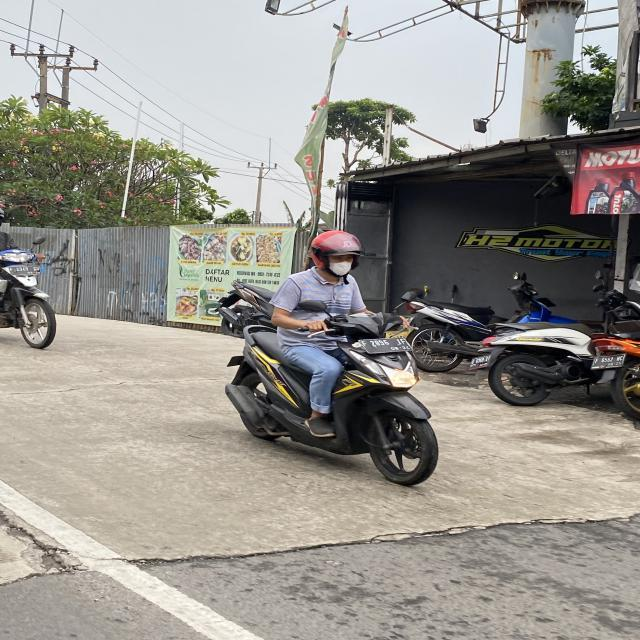Helmet: (310, 230, 361, 269)
Number Plate: (358, 338, 411, 353), (591, 353, 625, 369), (7, 264, 39, 275), (469, 354, 490, 369)
Rearview Mirror: (297, 300, 326, 311), (401, 291, 417, 301), (33, 235, 45, 244), (592, 284, 605, 291), (595, 270, 602, 279)
